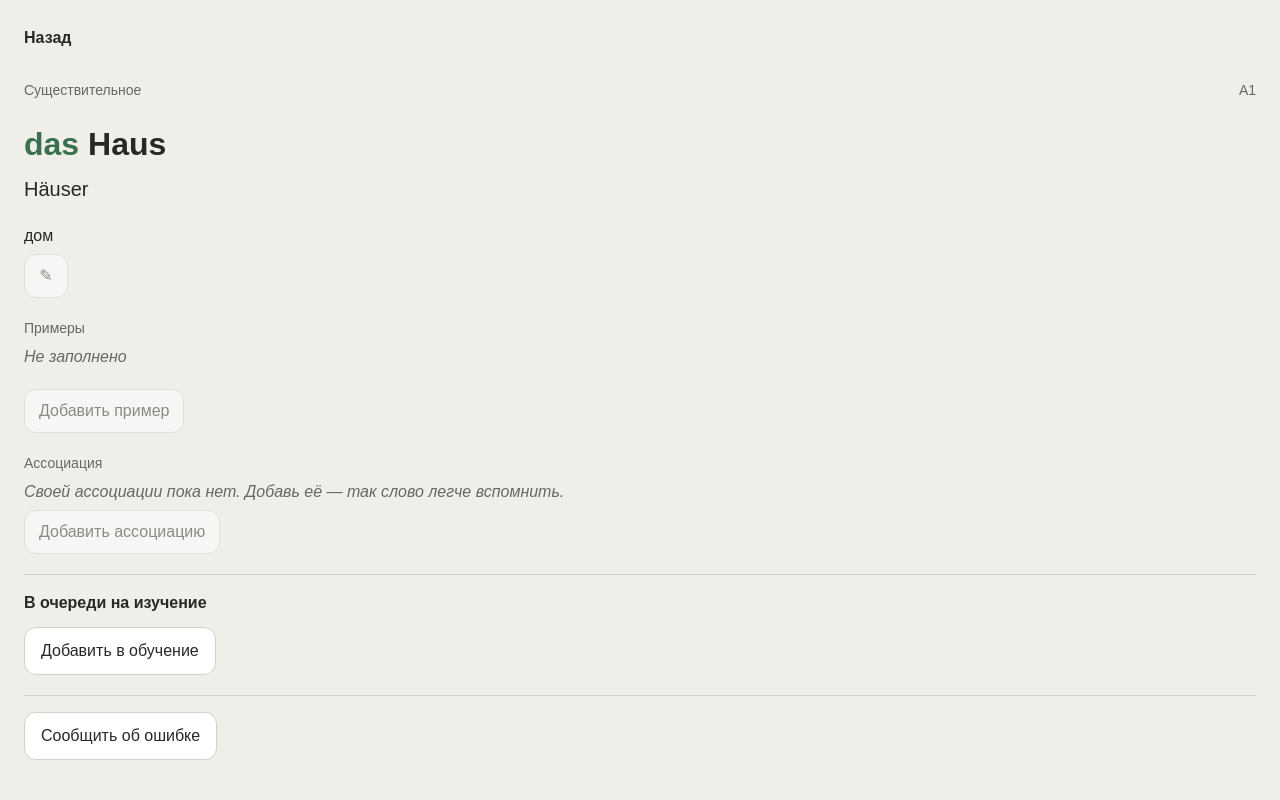
Test case: М12 card host: card read, card context, manual Learning choice, Back › H6 an unconfirmed outcome offers retry of the same command, never a new one
The width and height of the screenshot is (1280, 800).
Click the button "Добавить в обучение" at point(120, 651), box [24,627,216,675]
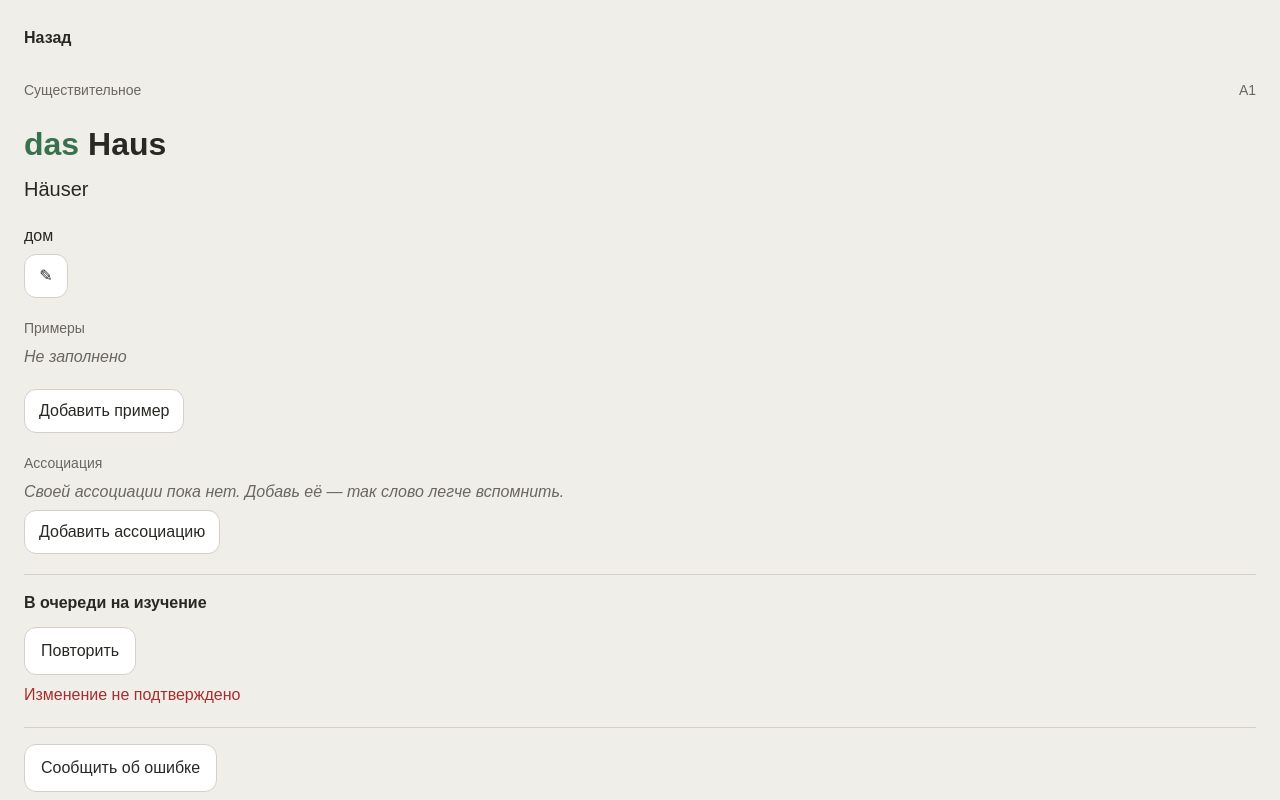
Result: the text "Изменение не подтверждено" is shown at [24,683,240,707]
Click the button "Повторить" at point(80, 651), box [24,627,136,675]
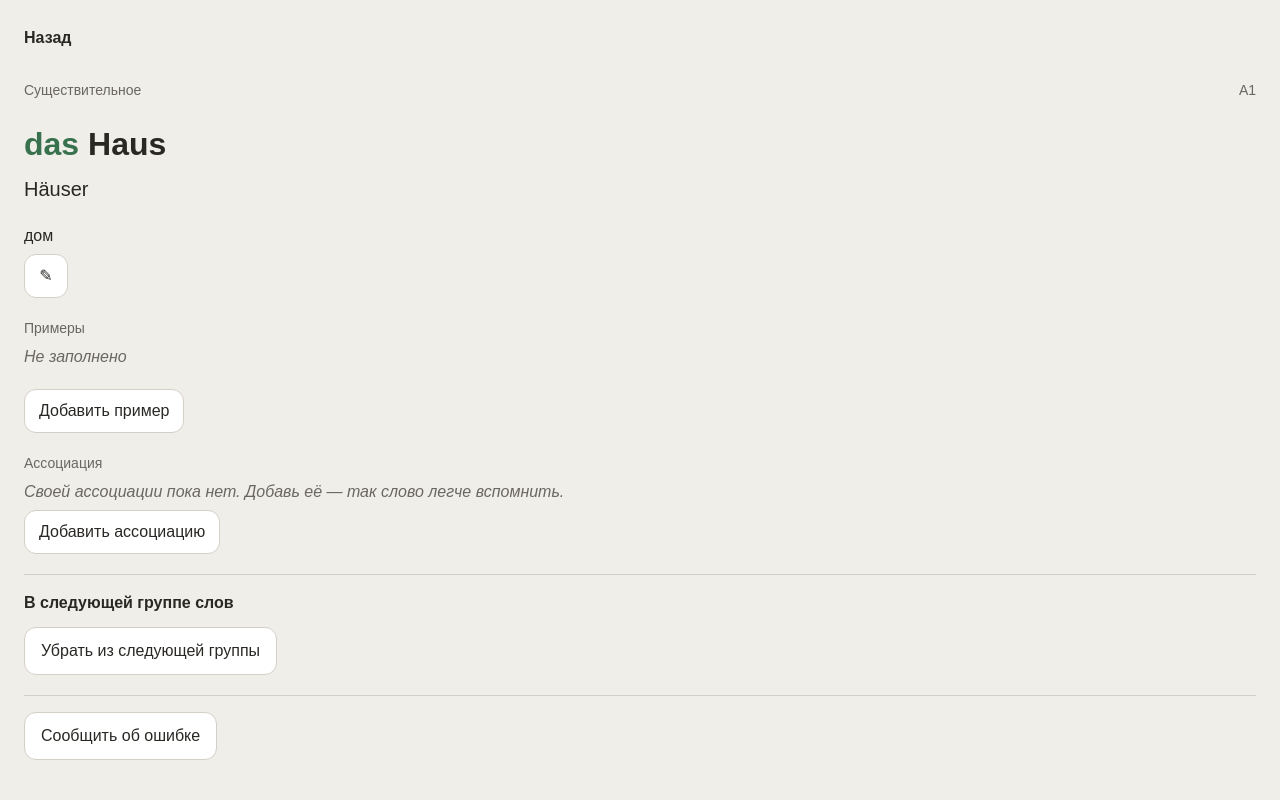
Result: the text "В следующей группе слов" is shown at [24,594,234,611]
